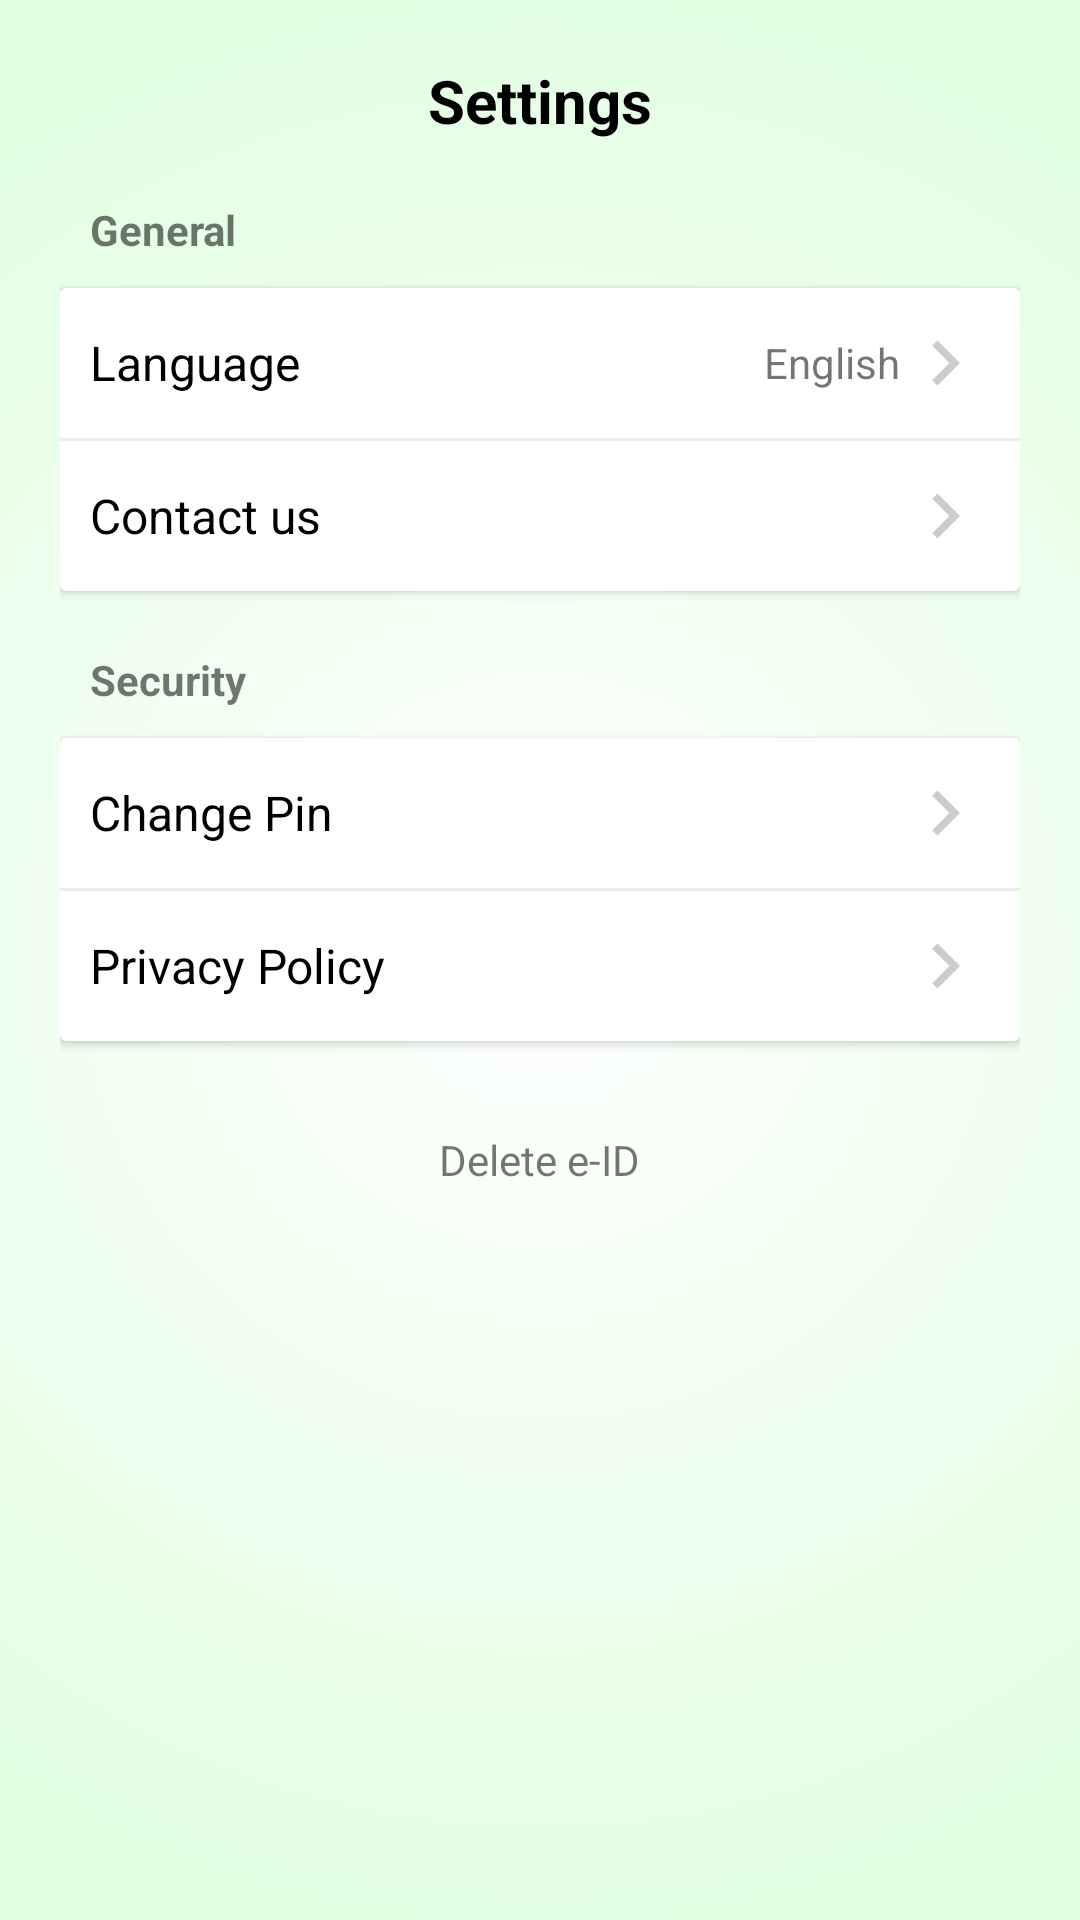

Icons on this 1080px x 1920px Android screen, each with its box as (x1, y1, x2, y2):
chevron right: (933, 341, 960, 385), (933, 494, 960, 538), (933, 791, 960, 835), (933, 944, 960, 988)
